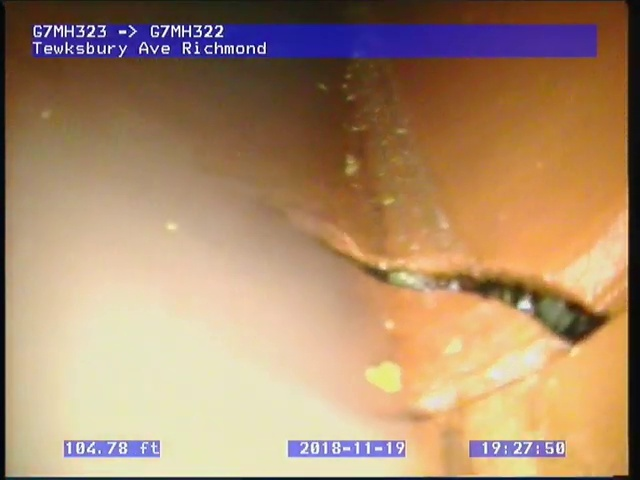crack: (318, 236, 625, 352)
